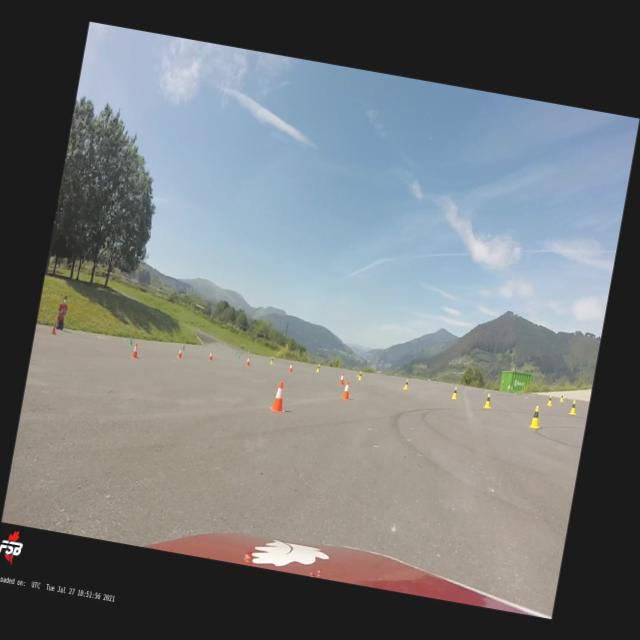orange_cone: (268, 379, 289, 414), (342, 379, 352, 400), (130, 342, 140, 358), (338, 371, 346, 385), (51, 322, 58, 336), (178, 346, 184, 358), (246, 355, 252, 366), (208, 350, 214, 360), (288, 362, 294, 372)
yellow_cone: (528, 404, 542, 430), (482, 392, 493, 409), (568, 399, 578, 416), (450, 386, 460, 400), (546, 394, 554, 406), (403, 378, 410, 390), (558, 392, 564, 402), (358, 371, 363, 380), (316, 363, 320, 372), (270, 356, 274, 364)
